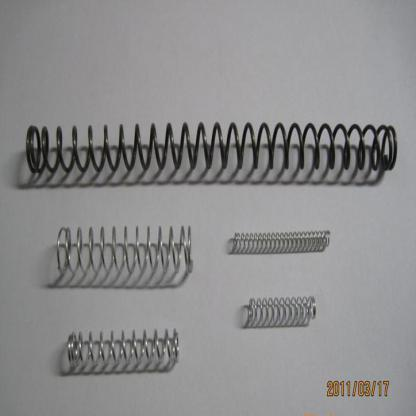FOD: (21, 120, 401, 187), (54, 221, 194, 280), (64, 326, 180, 375), (230, 228, 332, 255), (244, 293, 319, 329)
